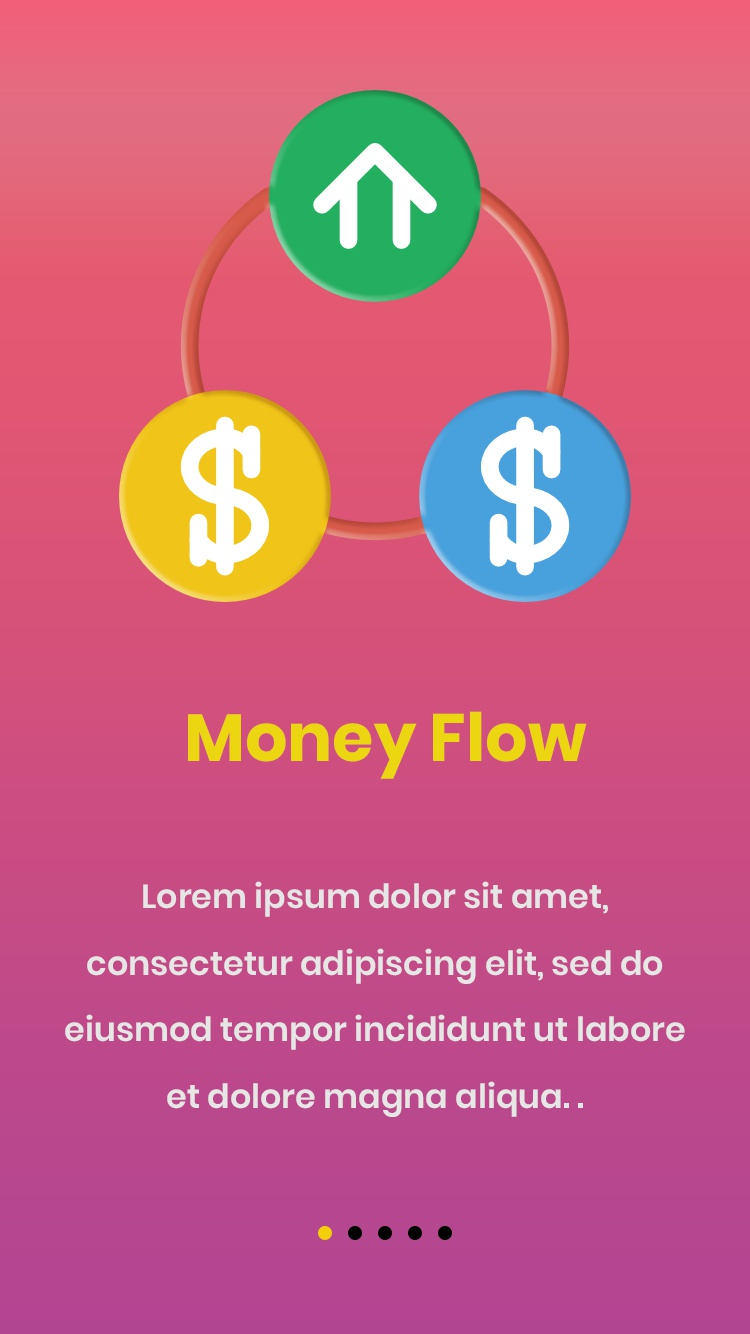Image: (118, 89, 632, 605)
PageIndicator: (316, 1224, 454, 1242)
Text: (65, 881, 686, 1118), (187, 711, 588, 781)
